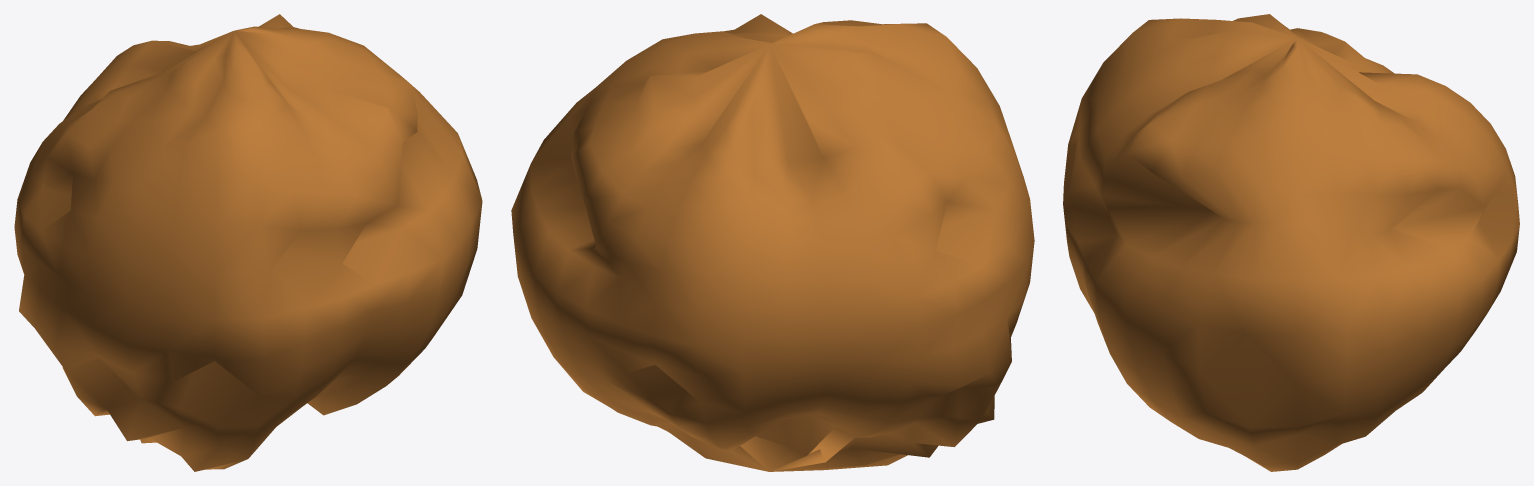
The model's file is poteto.dae.
3 renders of one model, left to right at view 1: azimuth 30°, elevation 25°; view 2: azimuth 150°, elevation 25°; view 3: azimuth 270°, elevation 25°, orthographic. The views are drawn at different scales.
Parts seen in each view (by area): view 1: 球; view 2: 球; view 3: 球.
Boxes of the visible parts, left/top/right/bottom form: 球: left=14, top=14, right=482, bottom=471; 球: left=511, top=14, right=1034, bottom=471; 球: left=1063, top=14, right=1519, bottom=471.
Bounding box in the file's own units: 9.82 × 9.05 × 8.94.
